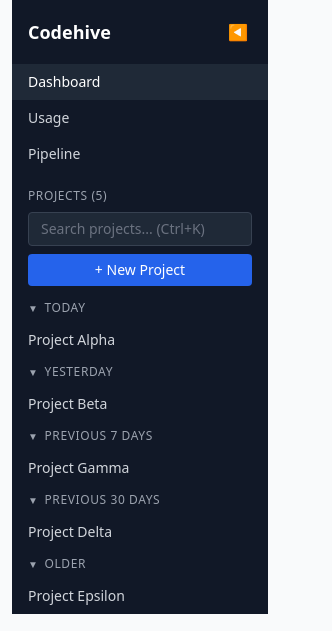
it: Sidebar › search filters projects by name in real time
Expected: the link "Project Alpha" is shown, [28,330,115,349]
Type "Alpha" into the field with test id "sidebar-search" at (140, 229), box [28,212,252,246]
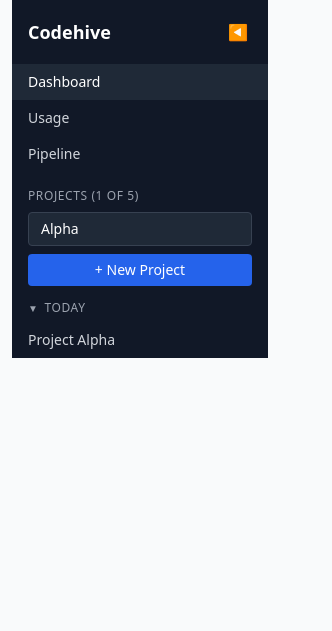
Expected: the link "Project Alpha" is shown, [28,330,115,349]
Now the link "Project Beta" is gone
Now the link "Project Gamma" is gone
